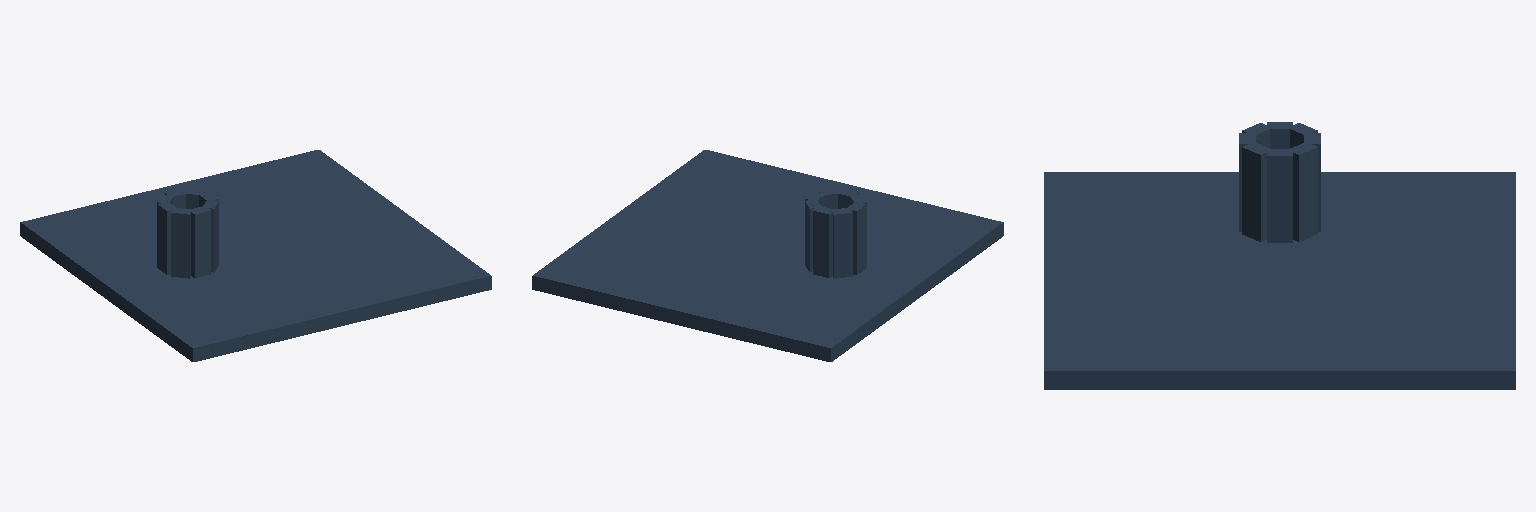
The robot description file, URDF, robot "round_insertion_fixture_relaxed":
<?xml version="1.0"?>
<!-- 22 mm octagonal bore for the 20 mm round peg. -->
<robot name="round_insertion_fixture_relaxed">
  <link name="fixture">
    <!-- The solid bottom preserves the original z=10 mm insertion stop. -->
    <visual><origin xyz="0 0 0.005"/><geometry><box size="0.22 0.22 0.01"/></geometry><material name="fixture"><color rgba="0.25 0.32 0.4 1"/></material></visual>
    <collision><origin xyz="0 0 0.005"/><geometry><box size="0.22 0.22 0.01"/></geometry></collision>

    <!-- Eight overlapping blocks form a guide around local (-0.05, 0).
         Their inner faces are 11 mm from the centre, providing 1 mm radial
         clearance while preserving contact and the original 45 mm depth. -->
    <visual><origin xyz="-0.035 0 0.0325" rpy="0 0 0"/><geometry><box size="0.008 0.01243 0.045"/></geometry><material name="fixture"/></visual>
    <collision><origin xyz="-0.035 0 0.0325" rpy="0 0 0"/><geometry><box size="0.008 0.01243 0.045"/></geometry></collision>
    <visual><origin xyz="-0.039393 0.010607 0.0325" rpy="0 0 0.785398"/><geometry><box size="0.008 0.01243 0.045"/></geometry><material name="fixture"/></visual>
    <collision><origin xyz="-0.039393 0.010607 0.0325" rpy="0 0 0.785398"/><geometry><box size="0.008 0.01243 0.045"/></geometry></collision>
    <visual><origin xyz="-0.05 0.015 0.0325" rpy="0 0 1.570796"/><geometry><box size="0.008 0.01243 0.045"/></geometry><material name="fixture"/></visual>
    <collision><origin xyz="-0.05 0.015 0.0325" rpy="0 0 1.570796"/><geometry><box size="0.008 0.01243 0.045"/></geometry></collision>
    <visual><origin xyz="-0.060607 0.010607 0.0325" rpy="0 0 2.356194"/><geometry><box size="0.008 0.01243 0.045"/></geometry><material name="fixture"/></visual>
    <collision><origin xyz="-0.060607 0.010607 0.0325" rpy="0 0 2.356194"/><geometry><box size="0.008 0.01243 0.045"/></geometry></collision>
    <visual><origin xyz="-0.065 0 0.0325" rpy="0 0 3.141593"/><geometry><box size="0.008 0.01243 0.045"/></geometry><material name="fixture"/></visual>
    <collision><origin xyz="-0.065 0 0.0325" rpy="0 0 3.141593"/><geometry><box size="0.008 0.01243 0.045"/></geometry></collision>
    <visual><origin xyz="-0.060607 -0.010607 0.0325" rpy="0 0 -2.356194"/><geometry><box size="0.008 0.01243 0.045"/></geometry><material name="fixture"/></visual>
    <collision><origin xyz="-0.060607 -0.010607 0.0325" rpy="0 0 -2.356194"/><geometry><box size="0.008 0.01243 0.045"/></geometry></collision>
    <visual><origin xyz="-0.05 -0.015 0.0325" rpy="0 0 -1.570796"/><geometry><box size="0.008 0.01243 0.045"/></geometry><material name="fixture"/></visual>
    <collision><origin xyz="-0.05 -0.015 0.0325" rpy="0 0 -1.570796"/><geometry><box size="0.008 0.01243 0.045"/></geometry></collision>
    <visual><origin xyz="-0.039393 -0.010607 0.0325" rpy="0 0 -0.785398"/><geometry><box size="0.008 0.01243 0.045"/></geometry><material name="fixture"/></visual>
    <collision><origin xyz="-0.039393 -0.010607 0.0325" rpy="0 0 -0.785398"/><geometry><box size="0.008 0.01243 0.045"/></geometry></collision>
  </link>
</robot>

--- Facts derived from the render (not from the file) ---
The picture shows the robot from 3 angles, left to right: view 1: azimuth 30°, elevation 25°; view 2: azimuth 150°, elevation 25°; view 3: azimuth 270°, elevation 25°; orthographic projection.
Model round_insertion_fixture_relaxed with 1 links and 0 joints (none), rooted at fixture, posed every joint at zero.
Visible links, largest first — view 1: fixture; view 2: fixture; view 3: fixture.
Link boxes in pixels (bbox=[...]): fixture: bbox=[20, 150, 491, 361]; fixture: bbox=[532, 150, 1003, 361]; fixture: bbox=[1044, 122, 1515, 389].
Size in the robot's own frame: 0.22 by 0.22 by 0.055 metres.
Geometry: primitives only (box / cylinder / sphere), no mesh files.
